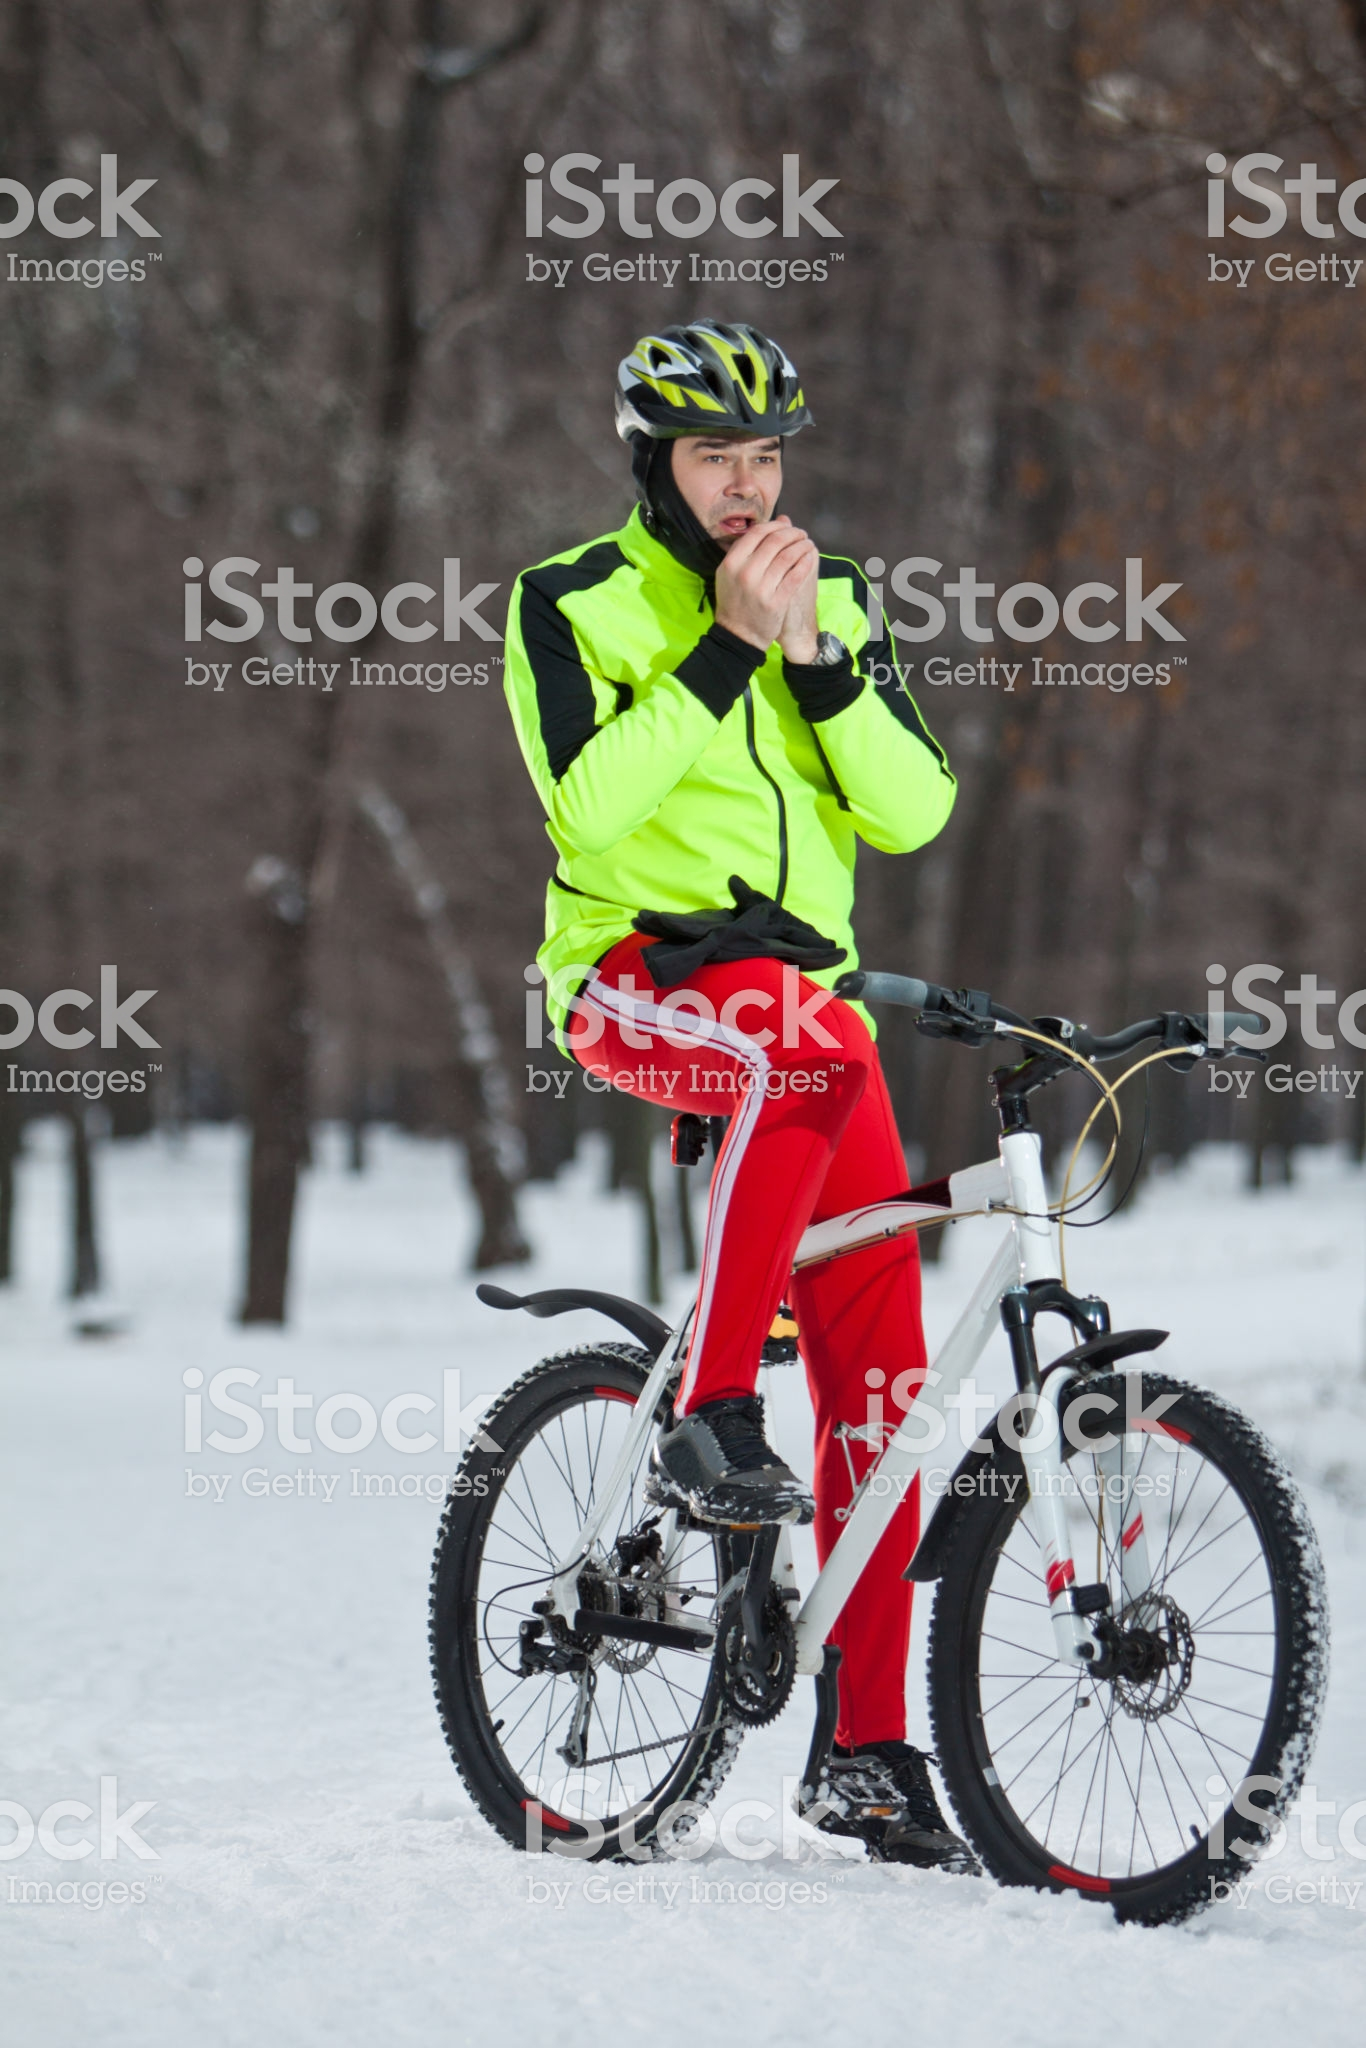helmet: (636, 309, 842, 475)
